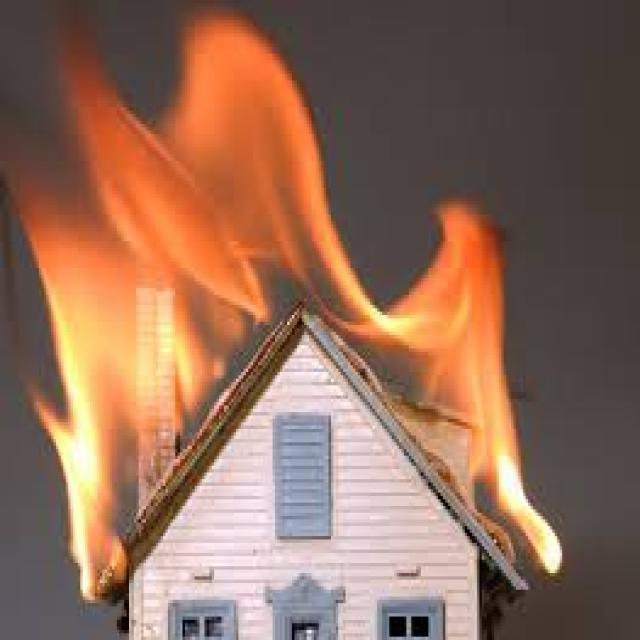Fire: (0, 0, 563, 603)
